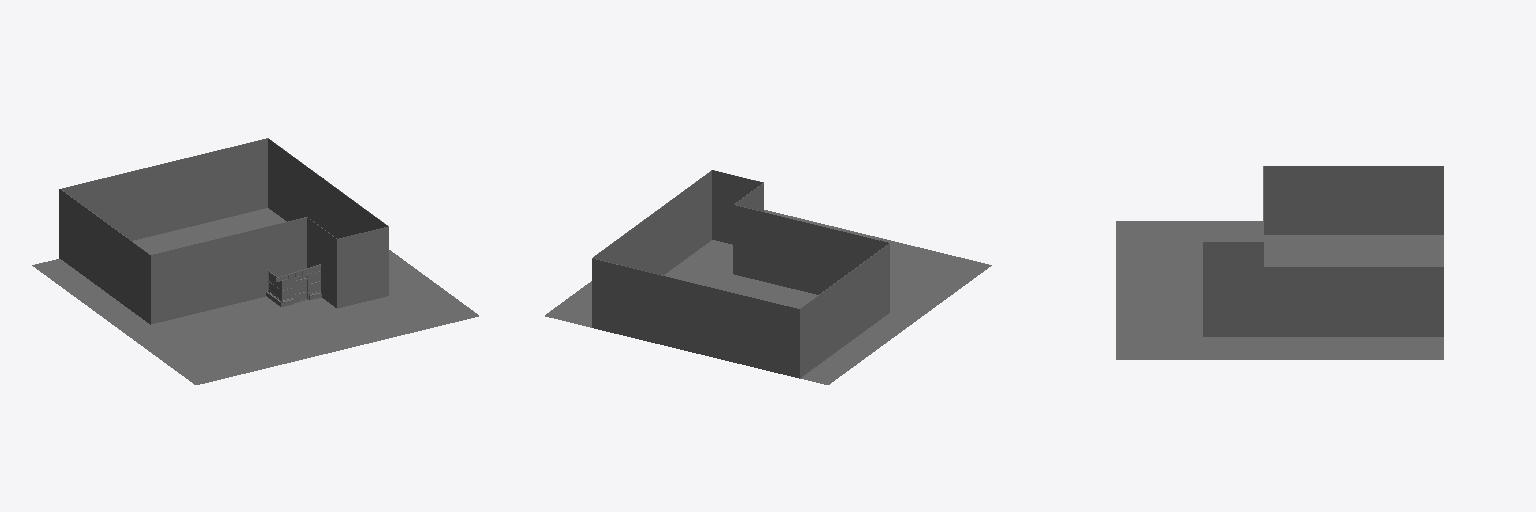
File: yir.obj
3 renders of one model, left to right at view 1: azimuth 30°, elevation 25°; view 2: azimuth 150°, elevation 25°; view 3: azimuth 270°, elevation 25°, orthographic.
Visible parts, largest first — view 1: pPlane1, pCube1, pCube4, pCube2, pCube3, pCube6, pCube5; view 2: pCube1, pPlane1, pCube4, pCube2, pCube3, pCube6; view 3: pPlane1, pCube3, pCube2, pCube5.
Part boxes in pixels (bbox=[...]): pPlane1: bbox=[32, 208, 478, 384]; pCube1: bbox=[59, 138, 267, 258]; pCube4: bbox=[150, 217, 306, 324]; pCube2: bbox=[60, 189, 149, 323]; pCube3: bbox=[268, 138, 387, 238]; pCube6: bbox=[337, 226, 388, 308]; pCube5: bbox=[307, 217, 336, 307]; pCube1: bbox=[592, 258, 799, 378]; pPlane1: bbox=[545, 210, 991, 384]; pCube4: bbox=[733, 205, 888, 294]; pCube2: bbox=[800, 243, 889, 377]; pCube3: bbox=[593, 170, 711, 275]; pCube6: bbox=[712, 170, 763, 244]; pPlane1: bbox=[1116, 221, 1443, 359]; pCube3: bbox=[1203, 267, 1443, 336]; pCube2: bbox=[1264, 166, 1443, 234]; pCube5: bbox=[1203, 242, 1262, 266].
Bounding box in the file's own units: 3000 × 700 × 3002.